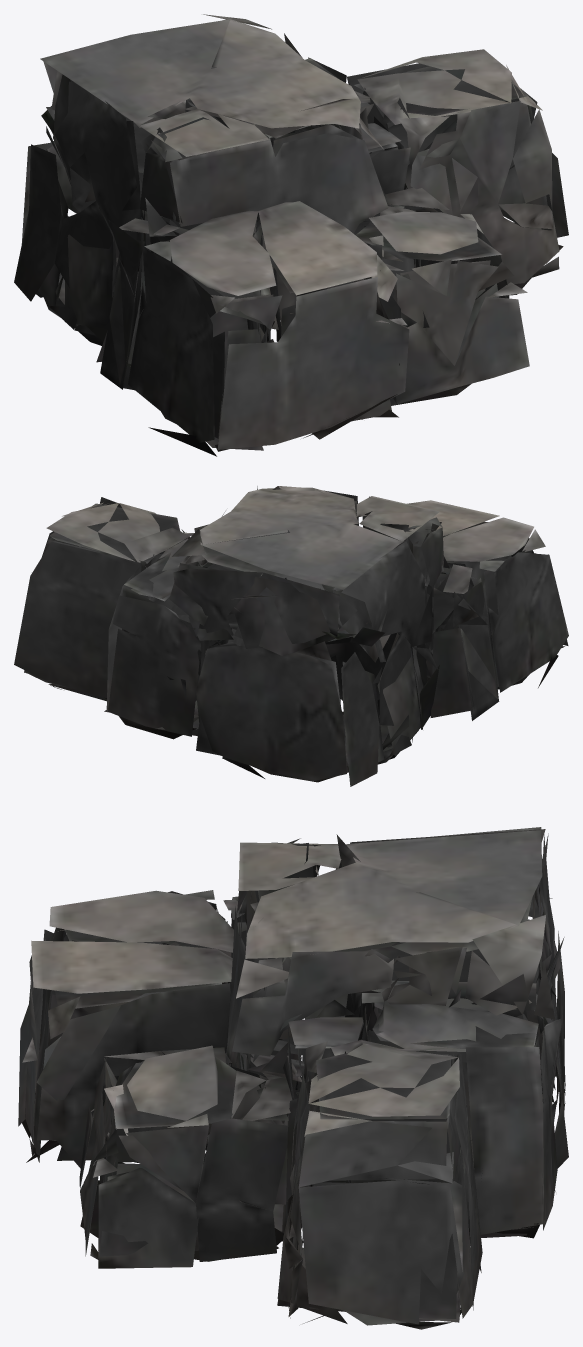
The model's file is pro_rubble.glb.
The picture shows the model from 3 angles, top to bottom: view 1: azimuth 30°, elevation 25°; view 2: azimuth 150°, elevation 25°; view 3: azimuth 270°, elevation 25°; orthographic projection. The views are drawn at different scales.
Visible parts, largest first — view 1: MetricPlacement; view 2: MetricPlacement; view 3: MetricPlacement.
Part boxes in pixels (bbox=[...]): MetricPlacement: bbox=[14, 14, 568, 456]; MetricPlacement: bbox=[14, 486, 568, 786]; MetricPlacement: bbox=[18, 827, 568, 1329].
Size of the model in its own units: 1.2 by 0.5891 by 1.03.
1 material, 1 textured.
